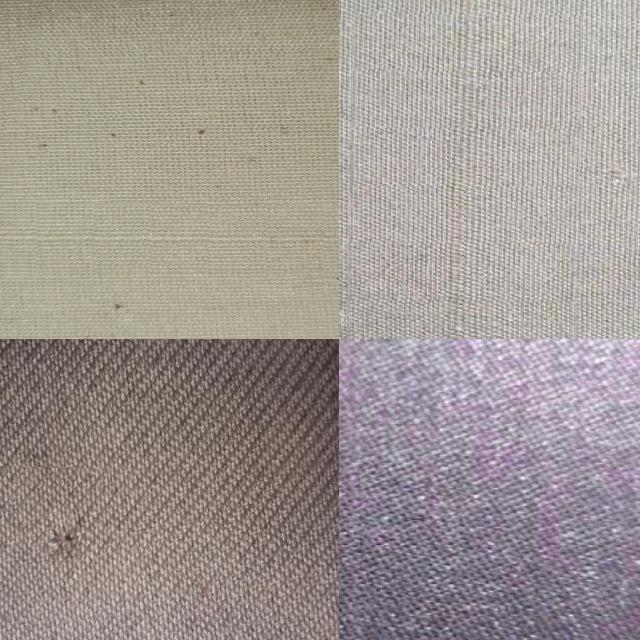other: (0, 467, 109, 620)
stains: (346, 0, 581, 339), (0, 201, 339, 278)
